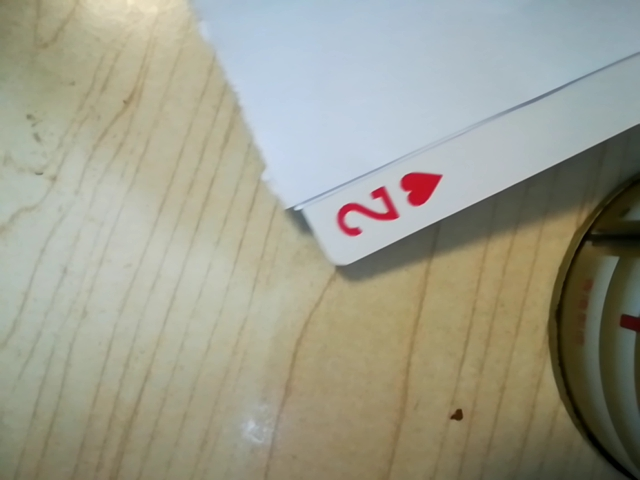hx 2: (318, 168, 447, 249)
